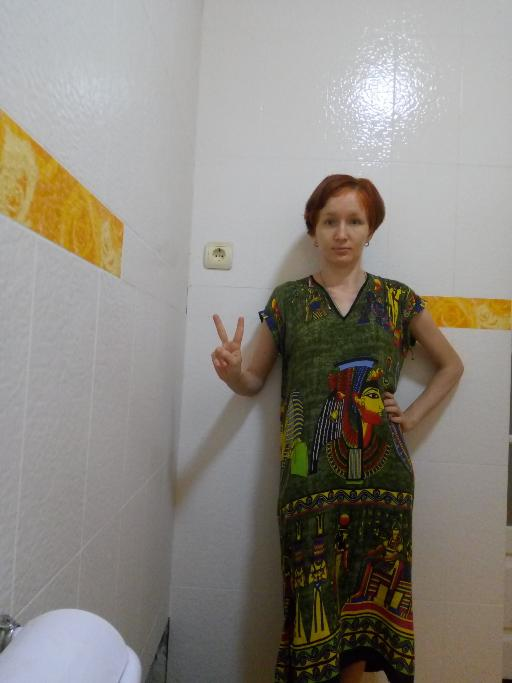no_gesture: (382, 387, 414, 434)
peace: (208, 313, 248, 382)
